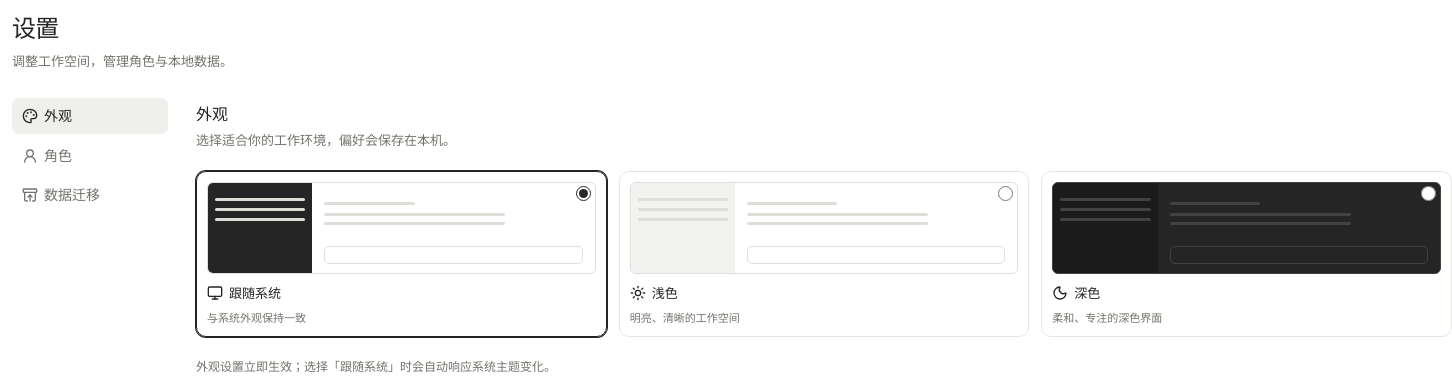
Test case: SettingsPage › includes the legacy session import panel
What coordinates should you click on to do the following:
click the button "数据迁移"
I would click on:
 (90, 195)
Its box is [12,177,168,213].
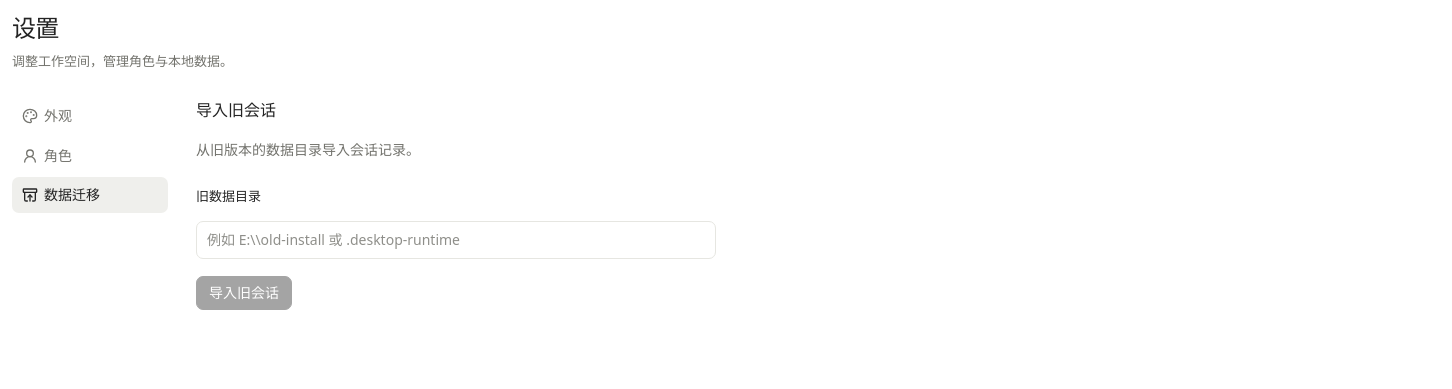
Check: the heading "导入旧会话" is shown, box [196,99,276,121]
